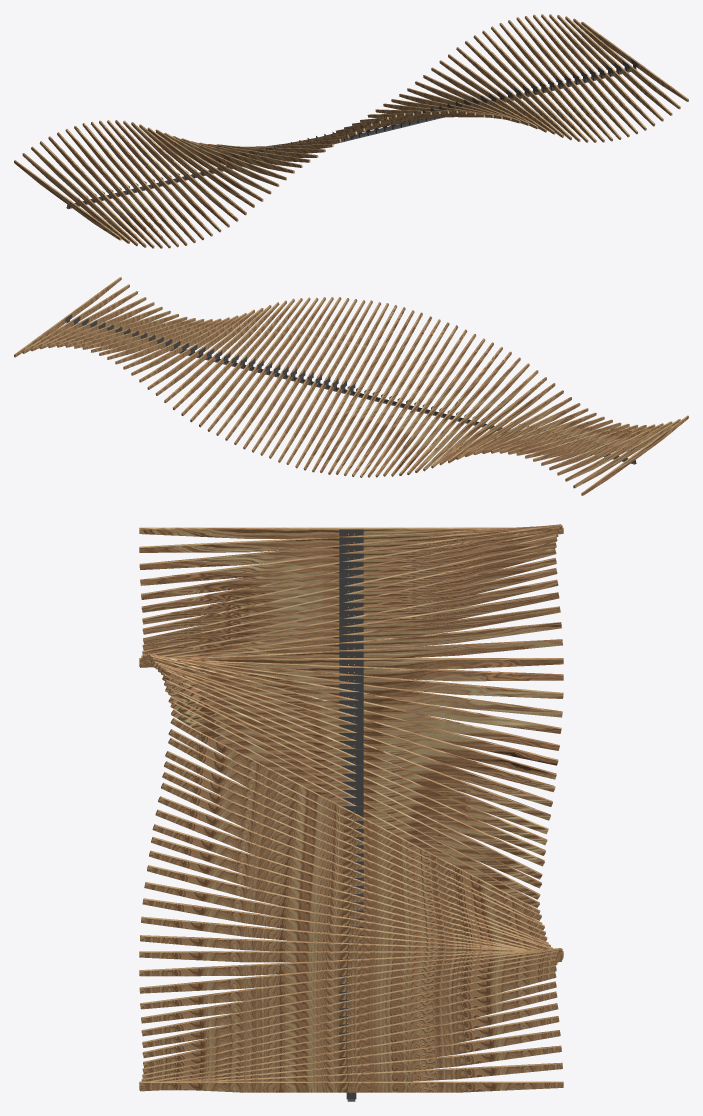
File: StageSTB.glb
3 renders of one model, top to bottom at view 1: azimuth 30°, elevation 25°; view 2: azimuth 150°, elevation 25°; view 3: azimuth 270°, elevation 25°, orthographic. The views are drawn at different scales.
Parts seen in each view (by area): view 1: Just Stage.001, Just Stage.000, tabs.001, tbeam; view 2: Just Stage.001, Just Stage.000, tabs.001, tbeam; view 3: Just Stage.000, Just Stage.001, tabs, tabs.001.
Part boxes in pixels (<box>): Just Stage.001: <box>14,114,397,248</box>; Just Stage.000: <box>336,14,688,142</box>; tabs.001: <box>347,59,637,139</box>; tbeam: <box>66,66,636,209</box>; Just Stage.001: <box>303,305,688,495</box>; Just Stage.000: <box>14,277,388,468</box>; tabs.001: <box>65,314,355,394</box>; tbeam: <box>66,322,636,464</box>; Just Stage.000: <box>139,718,563,1092</box>; Just Stage.001: <box>139,524,563,908</box>; tabs: <box>339,529,363,812</box>; tabs.001: <box>339,804,363,1099</box>.
Bounding box in the file's own units: 13.64 × 2.26 × 4.41.
Materials: 2 (1 with a texture image).
